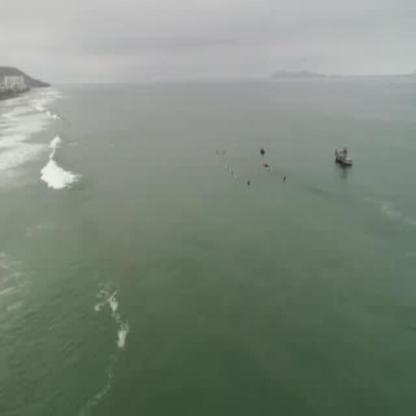Boat: (334, 142, 358, 172)
